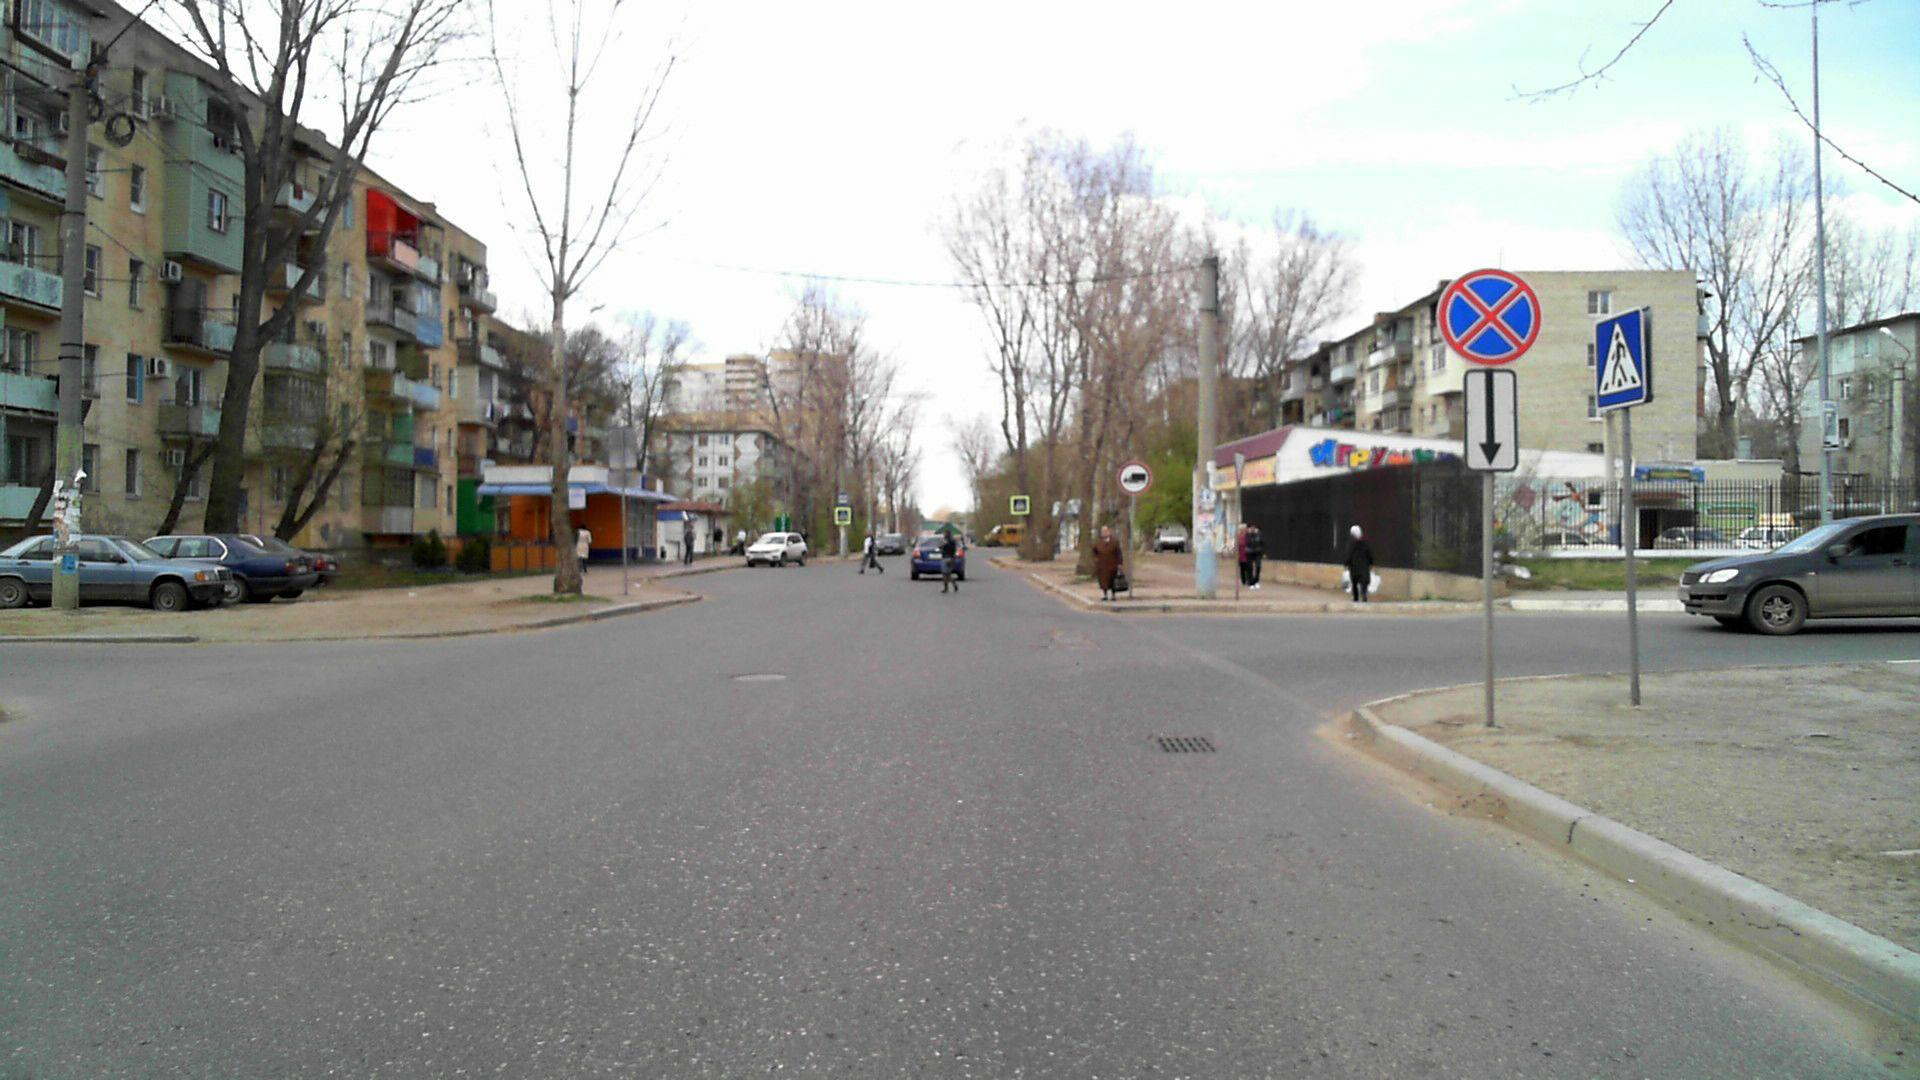2_4: (1232, 450, 1247, 485)
3_27: (1436, 265, 1543, 364)
3_4: (1118, 460, 1151, 497)
5_16: (837, 491, 849, 508)
5_19_1: (1593, 307, 1655, 409), (1013, 497, 1026, 512)
5_19_2: (837, 510, 849, 522)
6_4: (1824, 410, 1840, 436)
8_2_3: (1460, 365, 1516, 469)
8_6_5: (1822, 438, 1840, 450)
